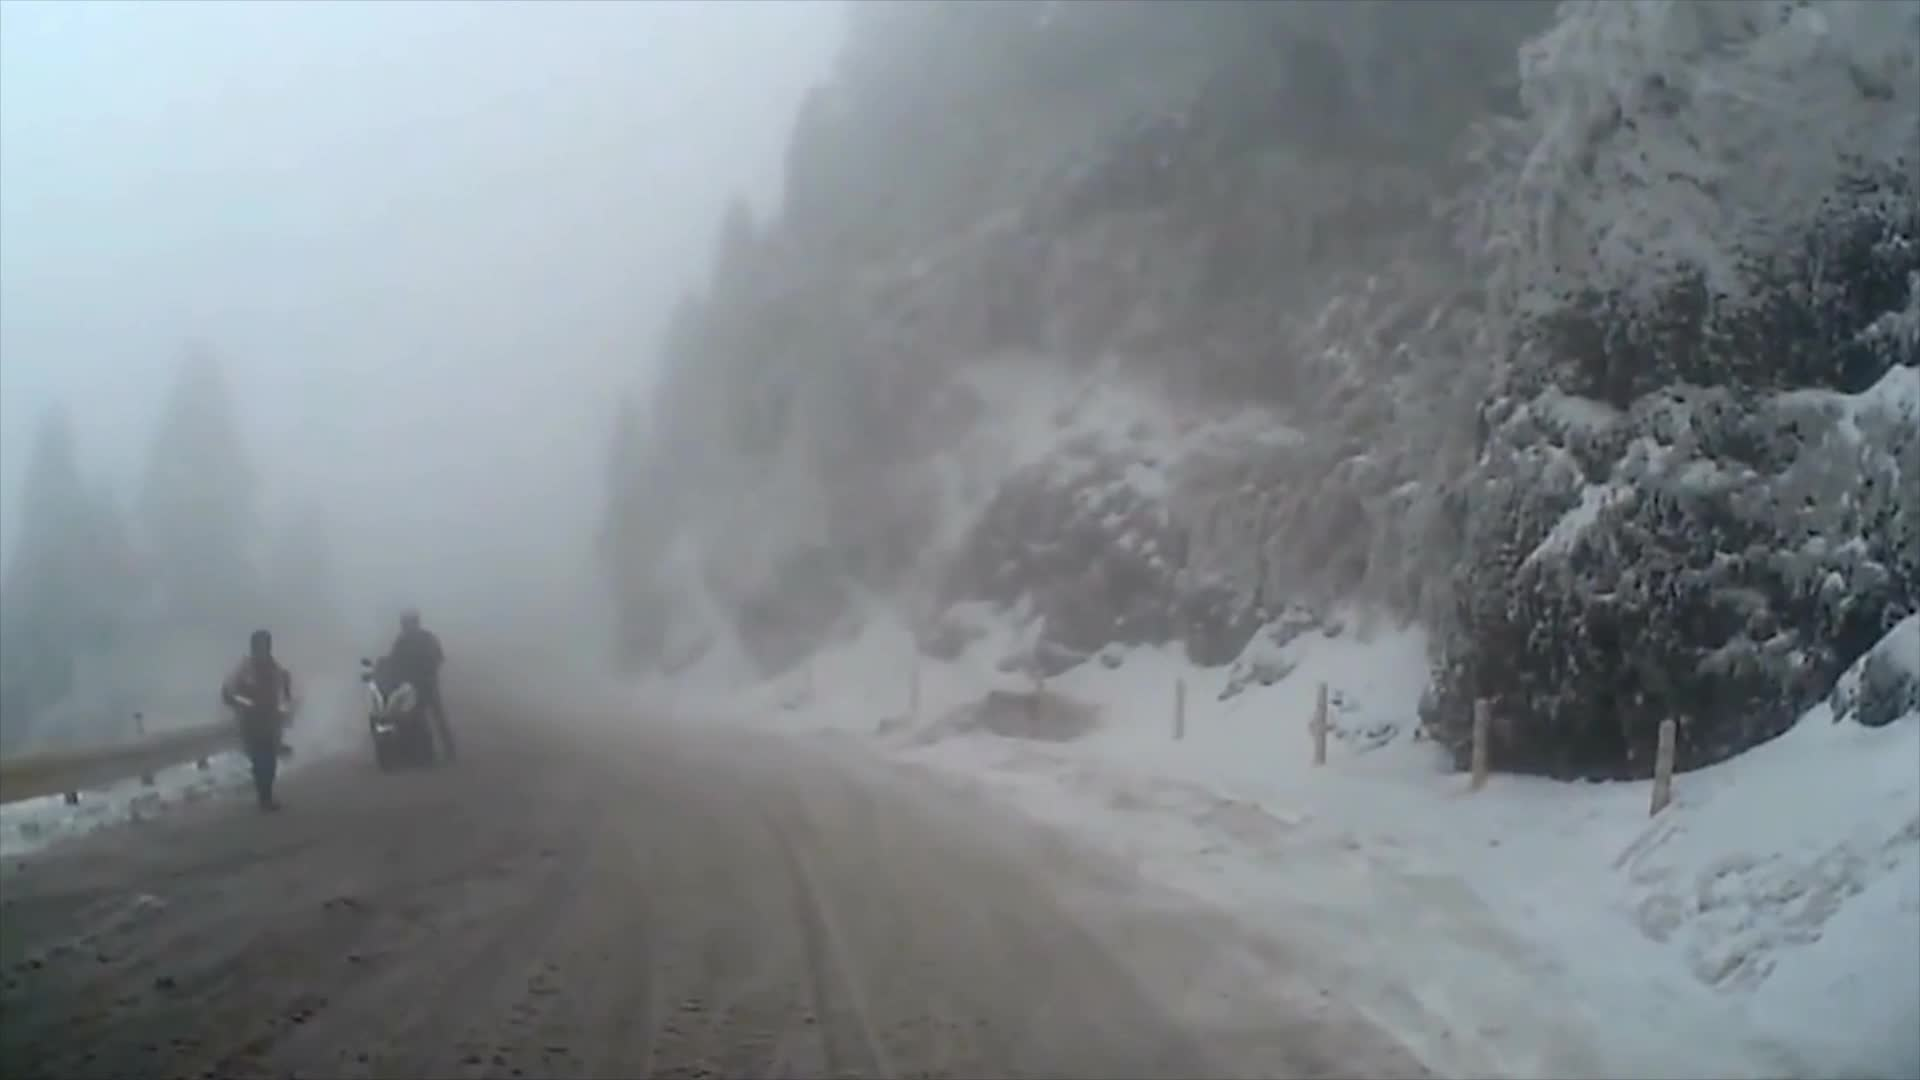pedestrian: (219, 633, 297, 817), (377, 609, 461, 775)
